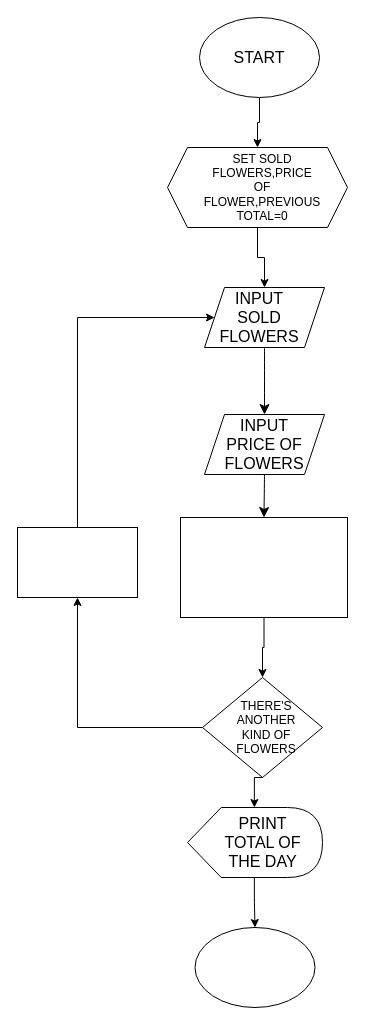
The diagram is 372 pixels wide and 1025 high, and some of its shapes have lost their labels. The centre of each missing label's shape, as x and y in pixels:
"CALCULATE TOTAL OF THE DAY=(SOLD FLOWARS*PRICE OF FLOWERS)+PREVIOUS TOTAL" goes at [264,567].
"END" goes at [254,967].
"TOTAL OF THE DAY = PREVIOUS TOTAL" goes at [77,562].
